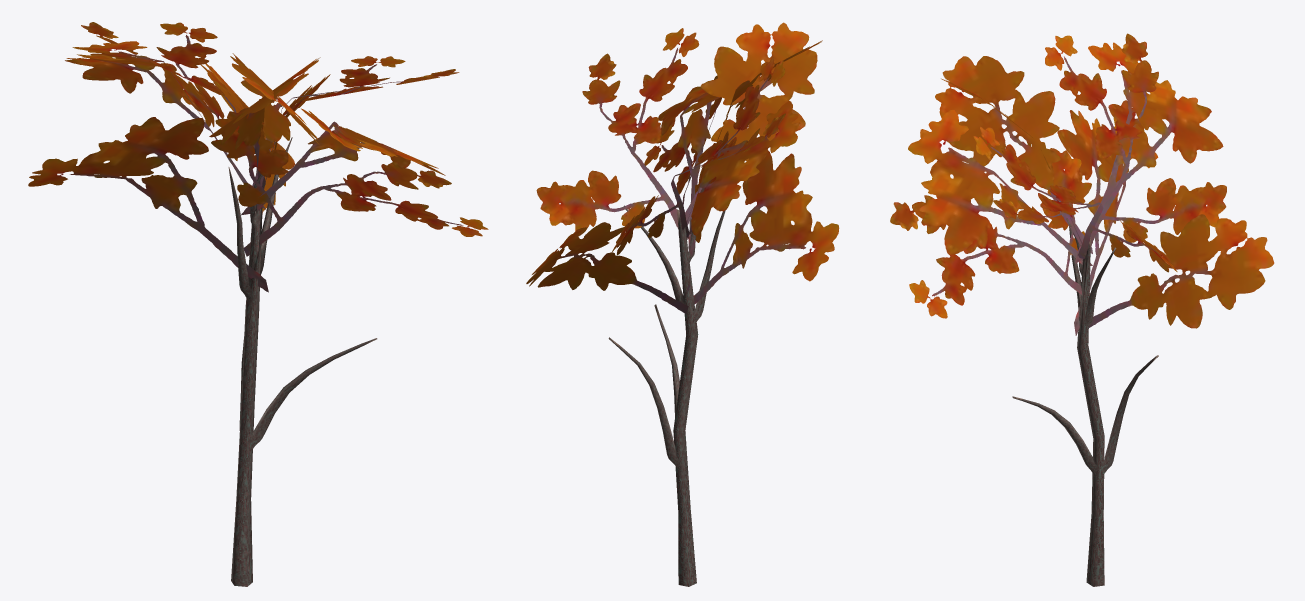
3 renders of one model, left to right at view 1: azimuth 30°, elevation 25°; view 2: azimuth 150°, elevation 25°; view 3: azimuth 270°, elevation 25°, orthographic. The views are drawn at different scales.
Parts seen in each view (by area): view 1: SM_MapleTree_Sapling_02_LOD0; view 2: SM_MapleTree_Sapling_02_LOD0; view 3: SM_MapleTree_Sapling_02_LOD0.
Part boxes in pixels (x1,y1,x2,y2): SM_MapleTree_Sapling_02_LOD0: (28, 22, 488, 586); SM_MapleTree_Sapling_02_LOD0: (526, 22, 839, 586); SM_MapleTree_Sapling_02_LOD0: (890, 33, 1274, 586).
Bounding box in the file's own units: 1.07 × 1.62 × 1.17.
Materials: 2 (2 with a texture image).
